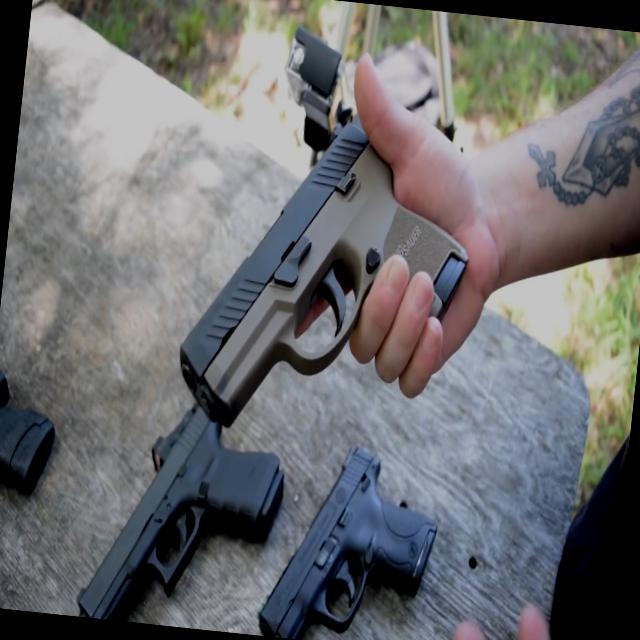handgun: (159, 134, 502, 463), (77, 400, 324, 634), (252, 407, 466, 639)
